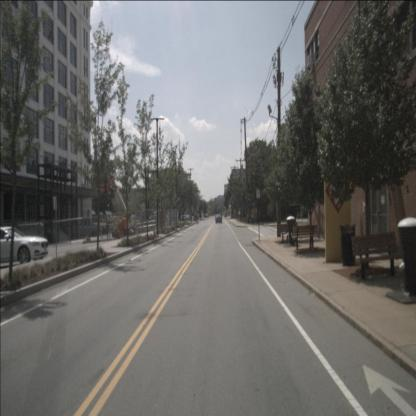movable_object-trafficcone: (100, 225, 103, 239)
vehicle-car: (0, 226, 49, 266), (180, 214, 190, 221), (216, 214, 222, 224)
